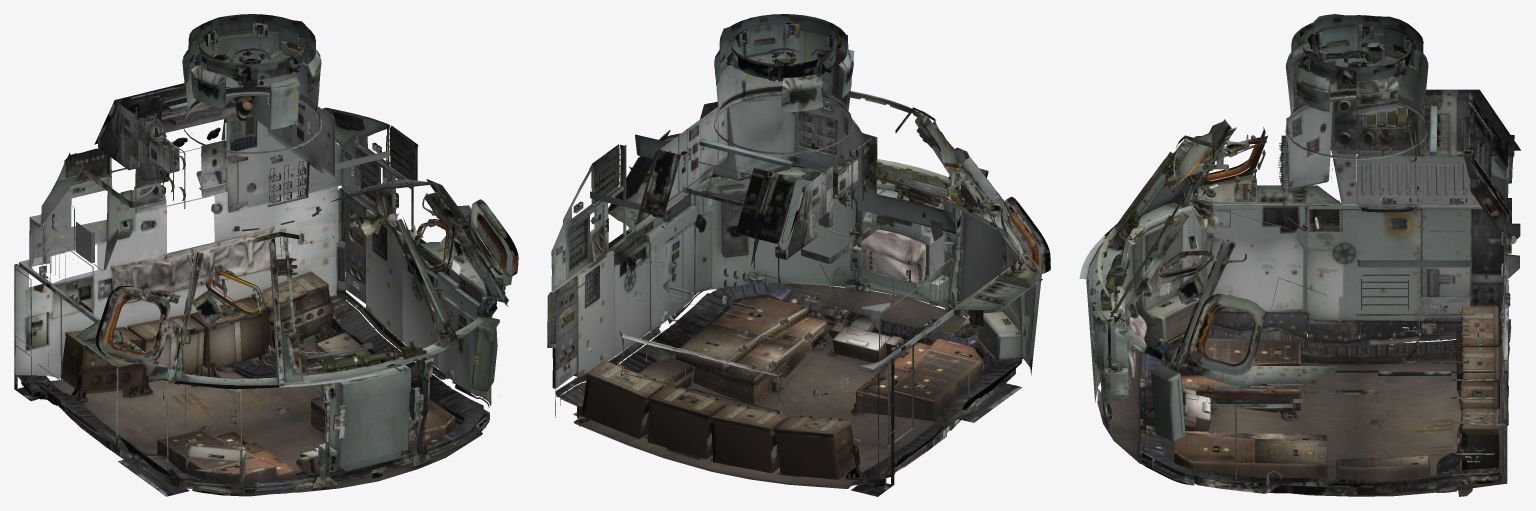
Rendered from interior-hull.glb.
3 renders of one model, left to right at view 1: azimuth 30°, elevation 25°; view 2: azimuth 150°, elevation 25°; view 3: azimuth 270°, elevation 25°, orthographic. The views are drawn at different scales.
Size of the model in its own units: 279 by 251 by 249.
Materials: 1 (1 with a texture image).
